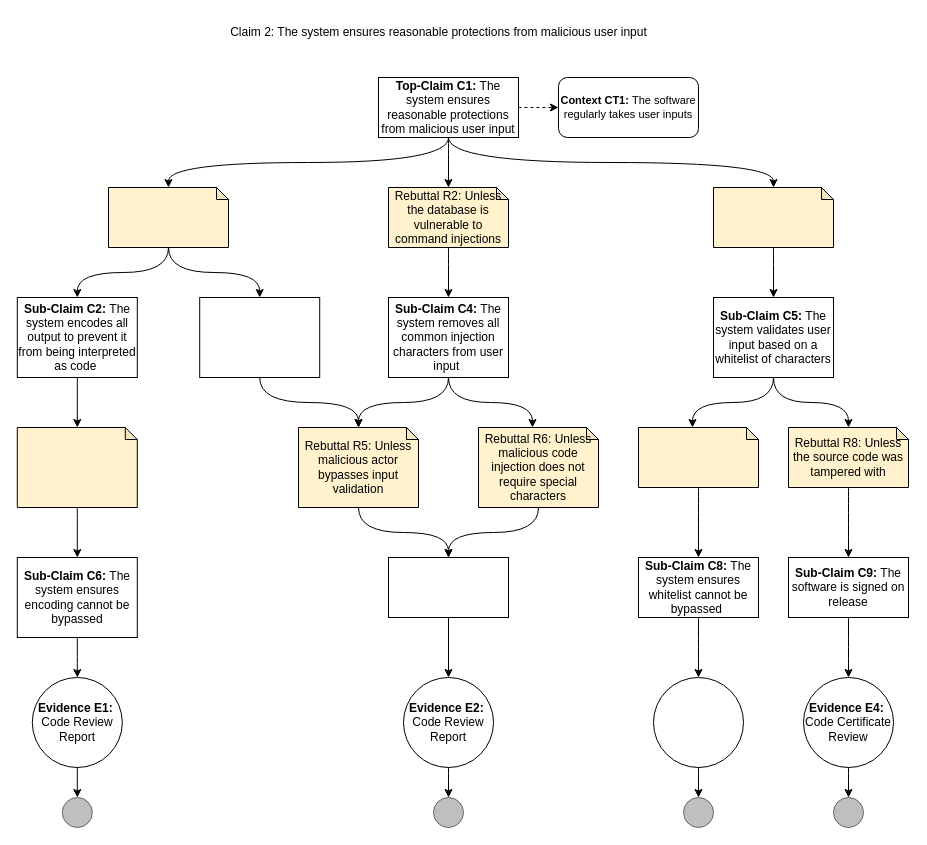
This 927x845 diagram has some shape labels left out. Each missing label, with the box of its shape:
Evidence E3: Character Testing Report: (652, 676, 744, 768)
Rebuttal R1: Unless Cross-Site Scripting (XSS) can occur: (108, 186, 228, 248)
Rebuttal R3: Unless malicious user input crashes the system: (712, 186, 834, 248)
Rebuttal R4: Unless character encoding is bypassed: (16, 426, 137, 508)
Rebuttal R7: Unless the system poorly validates characters: (638, 426, 758, 488)
Sub-Claim C3: The system validates and filters user input: (199, 296, 320, 378)
Sub-Claim C7: The system never executes user input: (388, 556, 508, 618)
